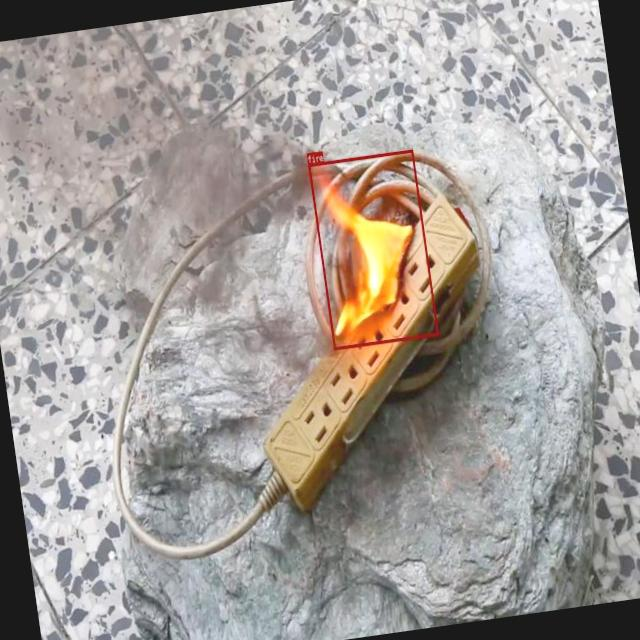fire: (307, 148, 438, 350)
